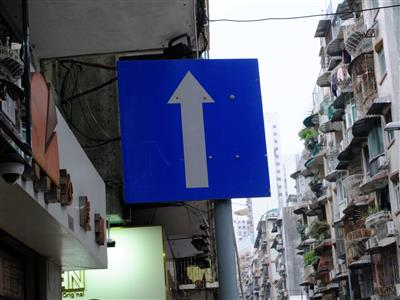oneway: (107, 50, 279, 206)
